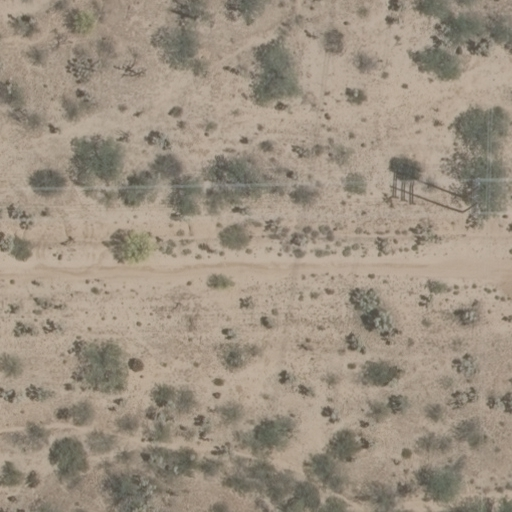TT: (459, 180, 490, 214)
